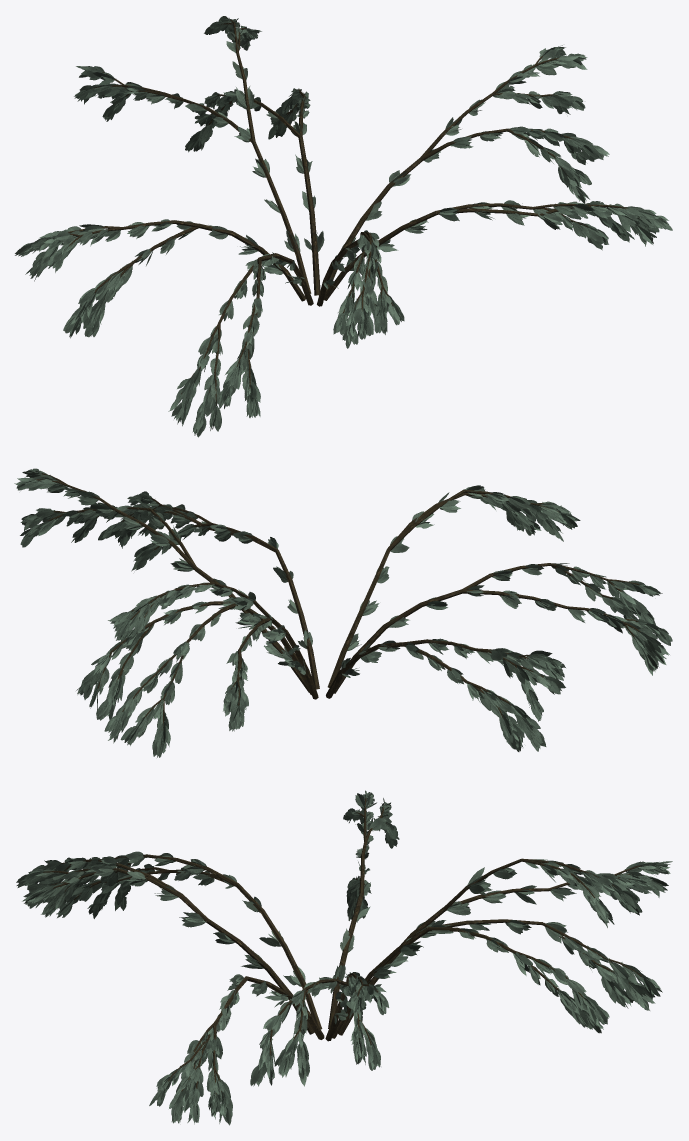
The model's file is willow_shrub_v01.fbx.
The picture shows the model from 3 angles, top to bottom: view 1: azimuth 30°, elevation 25°; view 2: azimuth 150°, elevation 25°; view 3: azimuth 270°, elevation 25°; orthographic projection. The views are drawn at different scales.
Visible parts, largest first — view 1: willow_shrub_v01; view 2: willow_shrub_v01; view 3: willow_shrub_v01.
Part boxes in pixels (x1,y1,x2,y2): willow_shrub_v01: (15, 16, 672, 437); willow_shrub_v01: (14, 468, 672, 757); willow_shrub_v01: (16, 790, 672, 1125).
Size of the model in its own units: 680 by 213 by 663.
Materials: 2 (2 with a texture image).
